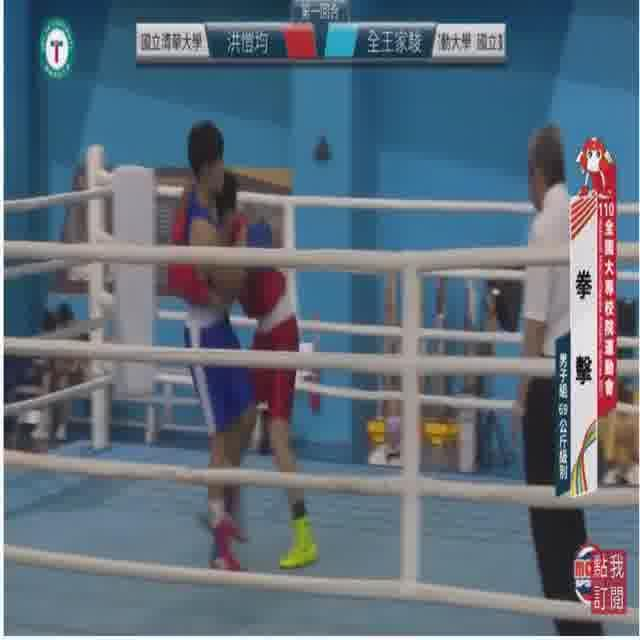blue-player: (182, 119, 275, 575)
red-player: (164, 164, 319, 570)
referee: (506, 116, 608, 635)
